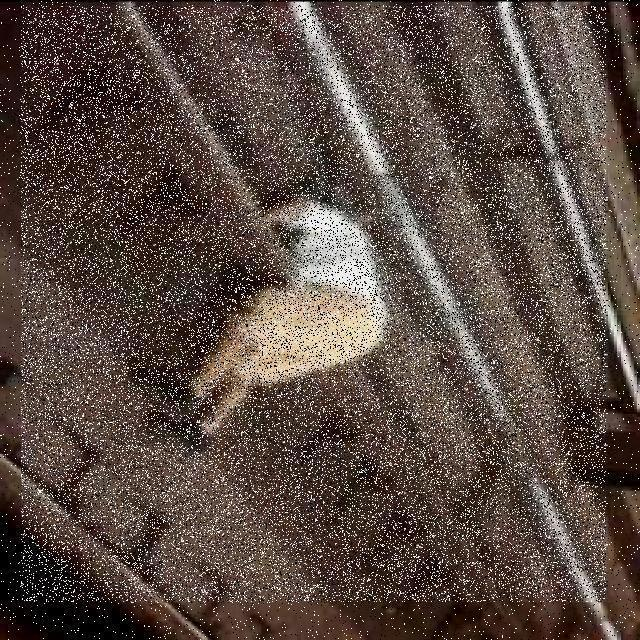rail: (23, 7, 609, 603)
